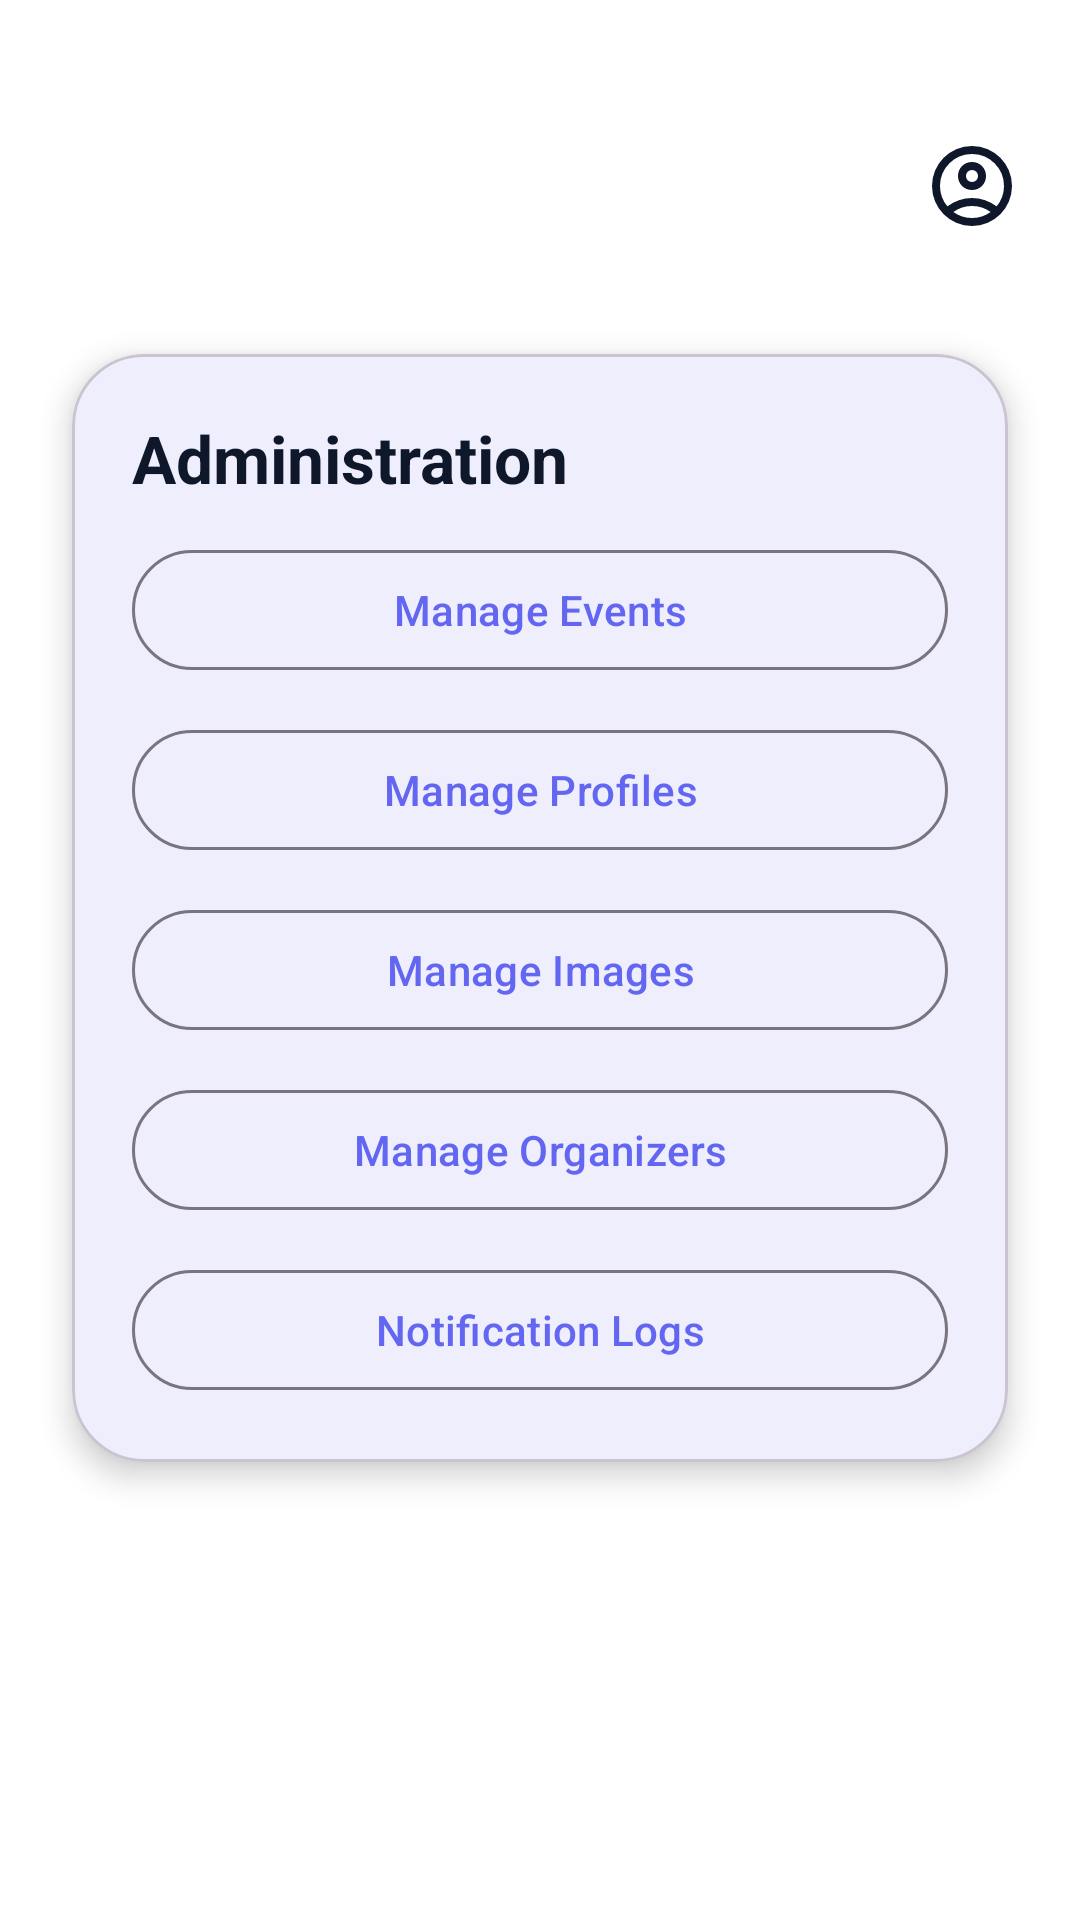

Screen size 1080px x 1920px. Icon name, then its center in pixels as point (x, y):
Admin profile: point (972, 186)
